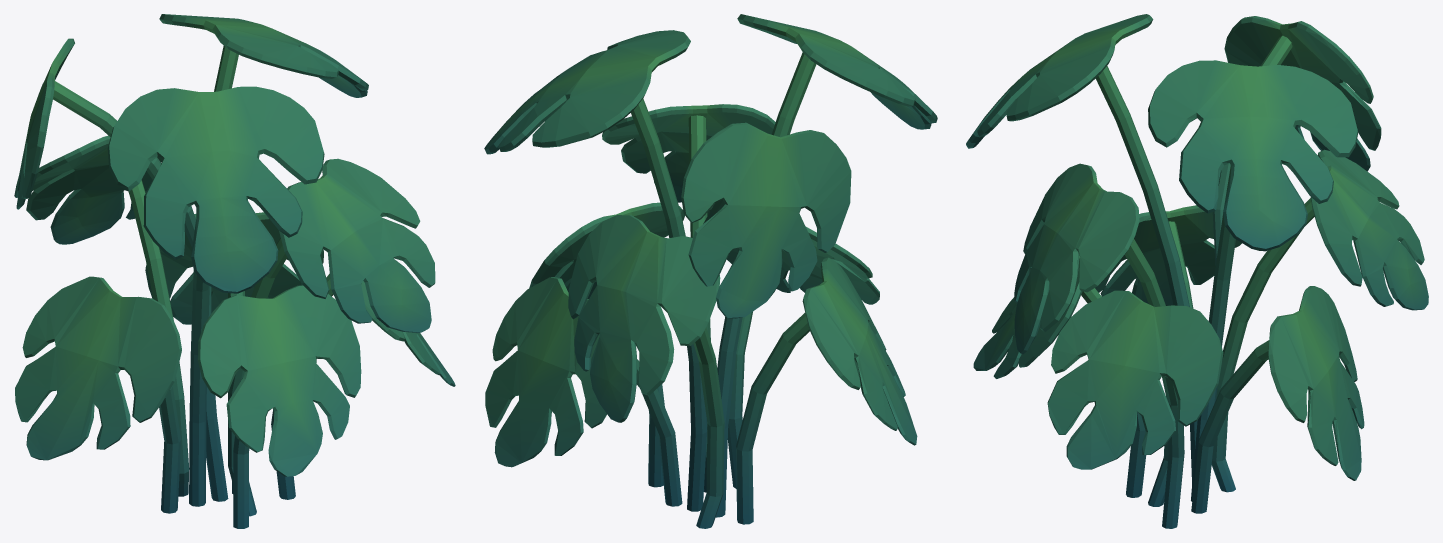
File: leaf-monstera.glb
3 renders of one model, left to right at view 1: azimuth 30°, elevation 25°; view 2: azimuth 150°, elevation 25°; view 3: azimuth 270°, elevation 25°, orthographic. The views are drawn at different scales.
Visible parts, largest first — view 1: plant; view 2: plant; view 3: plant.
Part boxes in pixels (x1,y1,x2,y2): plant: [14, 14, 455, 528]; plant: [484, 14, 937, 528]; plant: [966, 14, 1428, 528].
Size of the model in its own units: 2.59 by 2.96 by 2.79.
